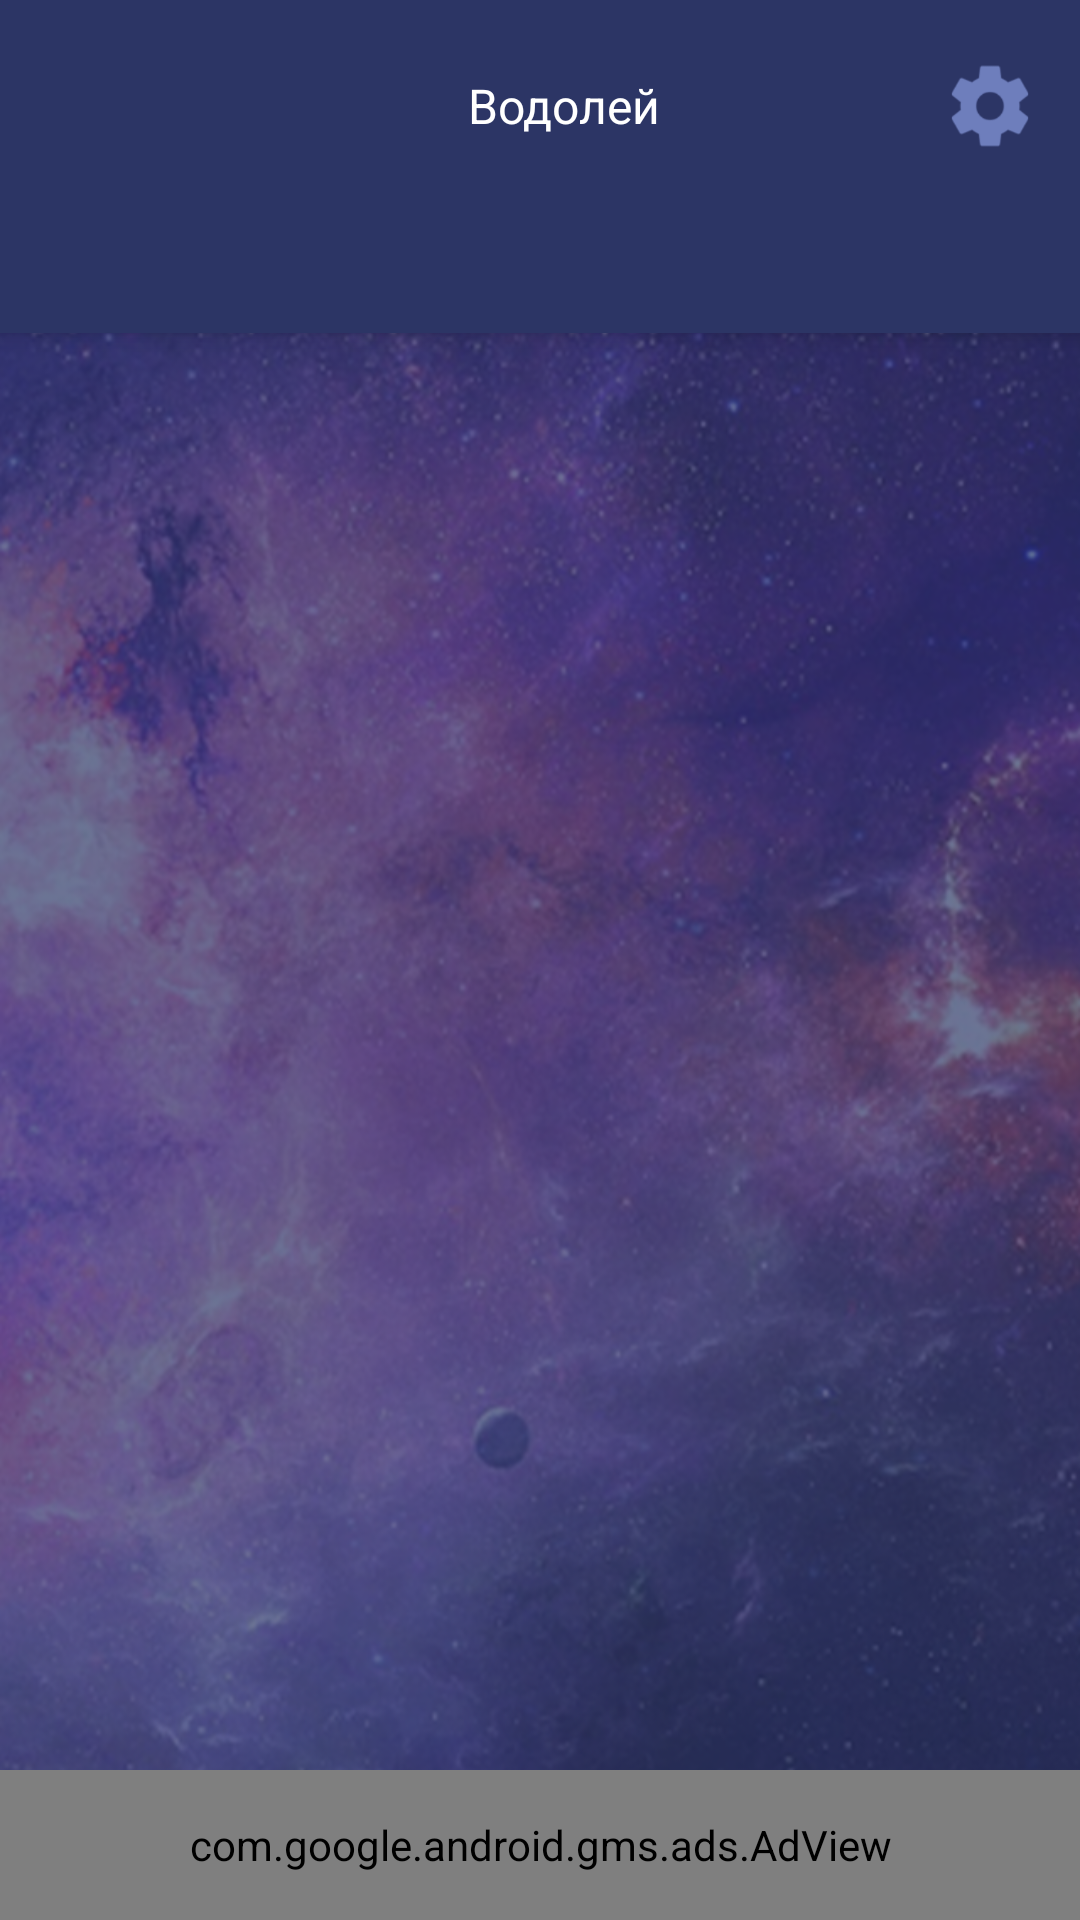

Screen size 1080×1920. Icon name, then its center in pixels as (x=x, y=y):
settings: (x=990, y=106)
